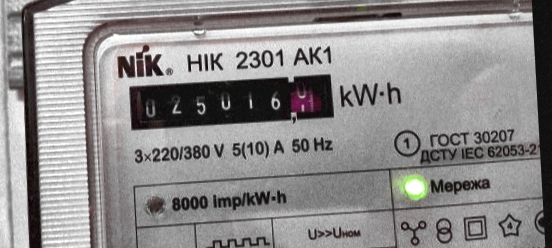0: (217, 88, 233, 111), (142, 96, 156, 118), (293, 79, 306, 99)
1: (242, 85, 255, 111), (296, 102, 305, 113)
2: (168, 91, 182, 115)
5: (193, 93, 205, 115)
6: (267, 87, 281, 113)
screen: (118, 64, 343, 137)
